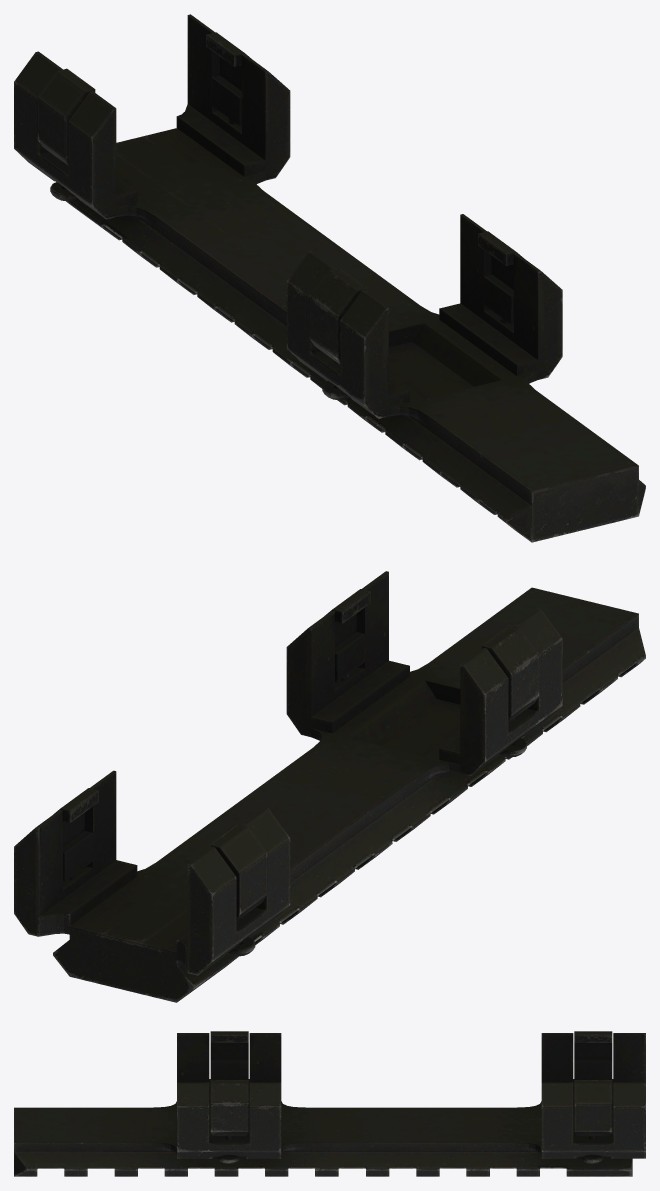
3 renders of one model, top to bottom at view 1: azimuth 30°, elevation 25°; view 2: azimuth 150°, elevation 25°; view 3: azimuth 270°, elevation 25°, orthographic. The views are drawn at different scales.
Visible parts, largest first — view 1: TW_5926dad986f7741f82604363_PZ_Import; view 2: TW_5926dad986f7741f82604363_PZ_Import; view 3: TW_5926dad986f7741f82604363_PZ_Import.
Part boxes in pixels (x1=…): TW_5926dad986f7741f82604363_PZ_Import: x1=14, y1=14, x2=645, y2=542; TW_5926dad986f7741f82604363_PZ_Import: x1=14, y1=571, x2=645, y2=1002; TW_5926dad986f7741f82604363_PZ_Import: x1=14, y1=1031, x2=645, y2=1176.
Bounding box in the file's own units: 0.0178 × 0.0728 × 0.0129.
Materials: 1 (1 with a texture image).
